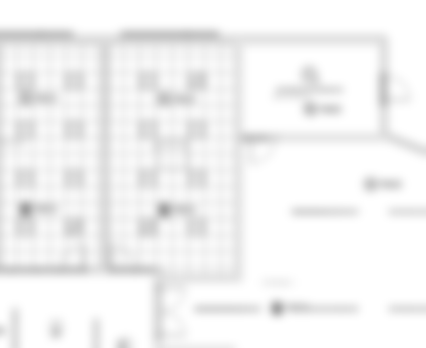door: (57, 243, 90, 274), (106, 242, 137, 272), (383, 73, 412, 103), (247, 137, 277, 165)
double door: (157, 284, 189, 339)
